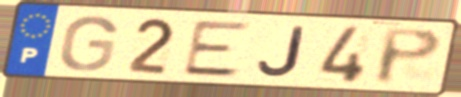2: (125, 17, 177, 77)
4: (317, 24, 369, 85)
E: (179, 20, 255, 79)
G: (56, 14, 120, 73)
J: (255, 24, 308, 79)
P: (373, 26, 446, 87)
